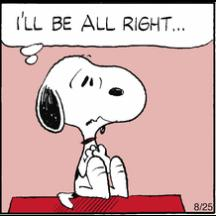snoopy: (35, 53, 147, 210)
